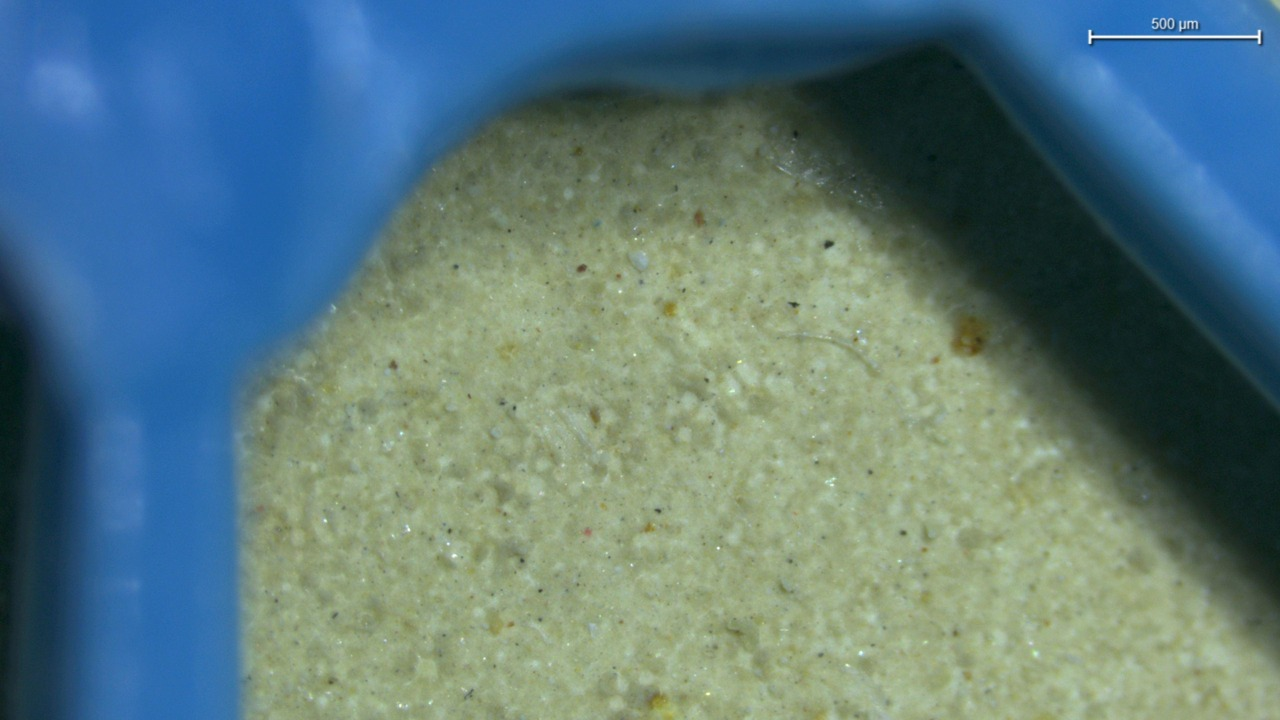microplastic_fragment: (629, 251, 648, 270)
